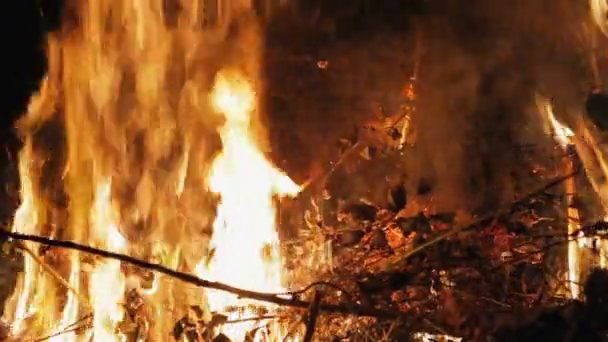fire: (2, 1, 296, 342), (568, 207, 580, 298), (550, 121, 571, 146), (592, 1, 608, 30)
